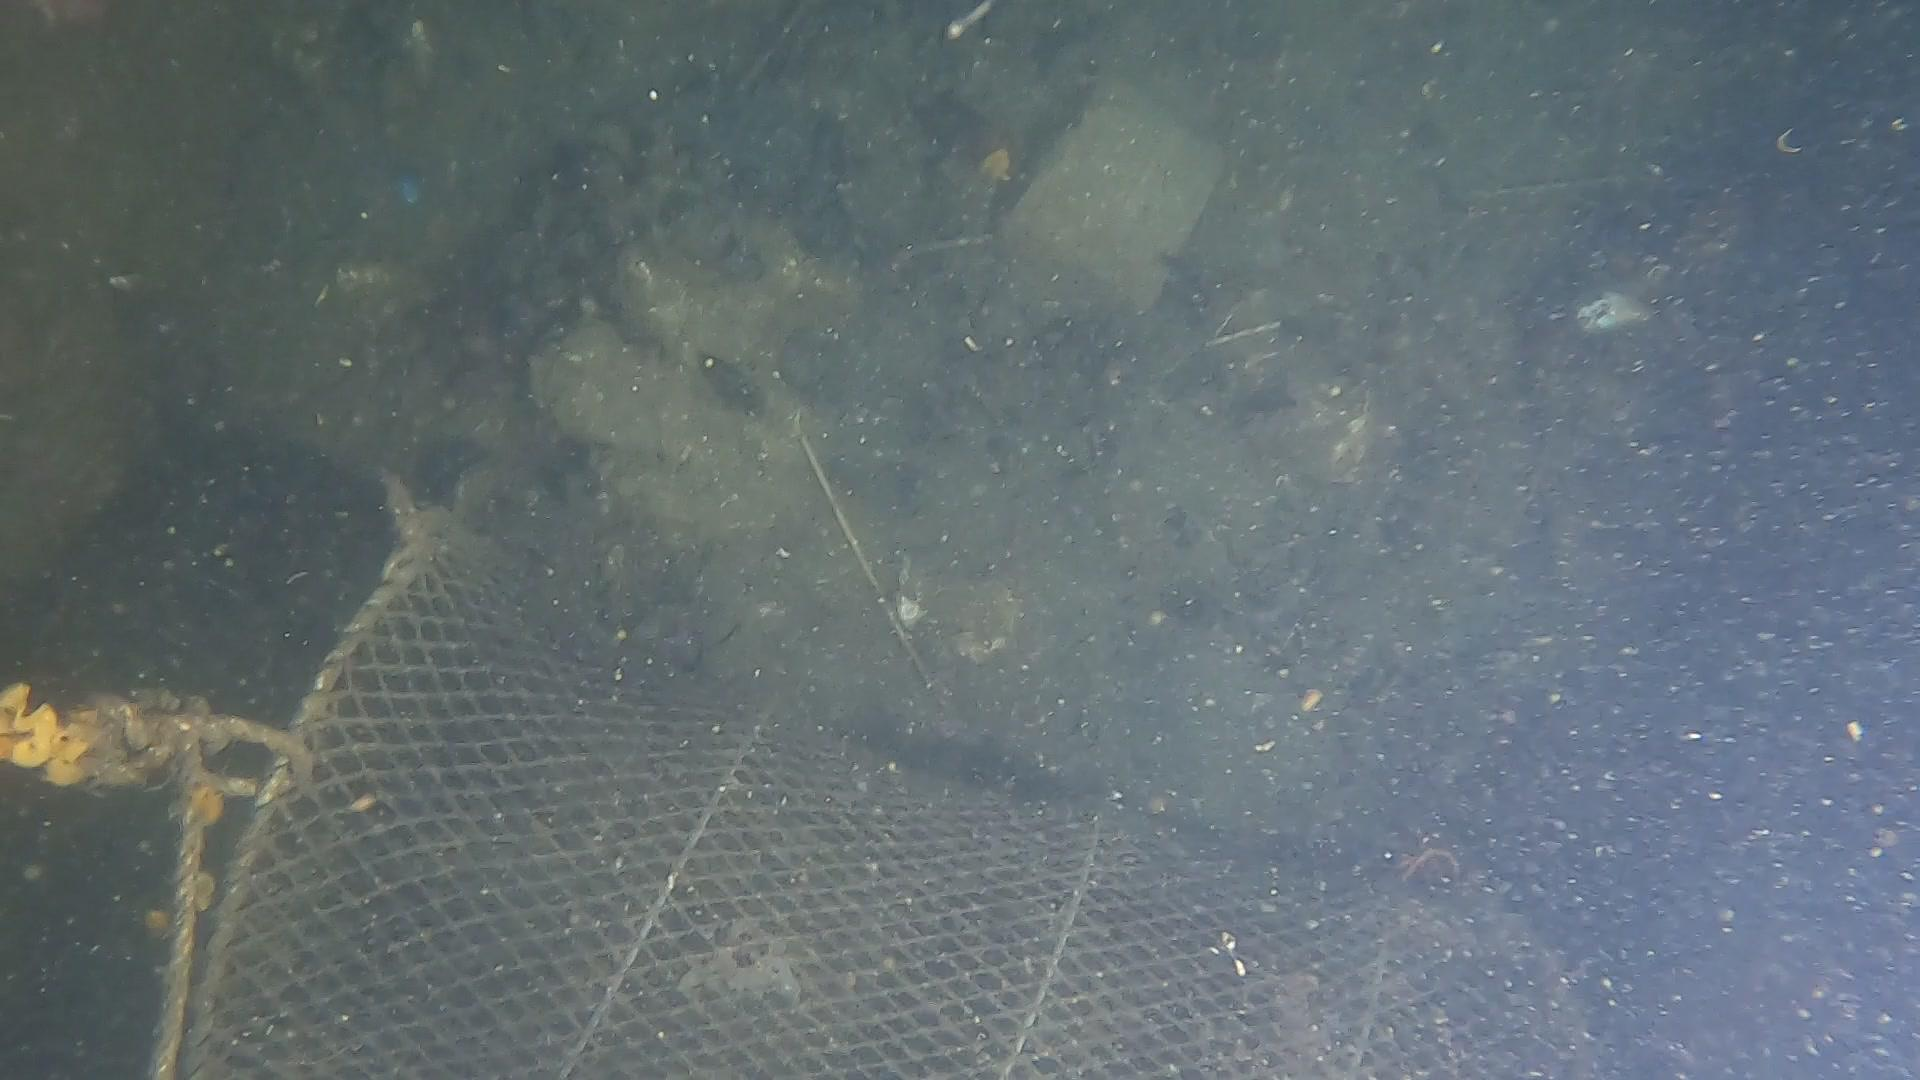bundle of ropes: (73, 683, 315, 1080)
spring fish trap: (179, 502, 1600, 1080)
